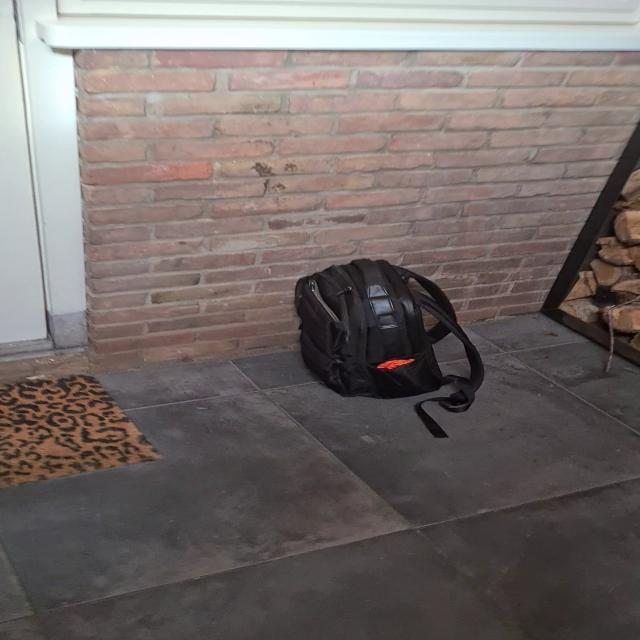backpack: (283, 255, 472, 405)
